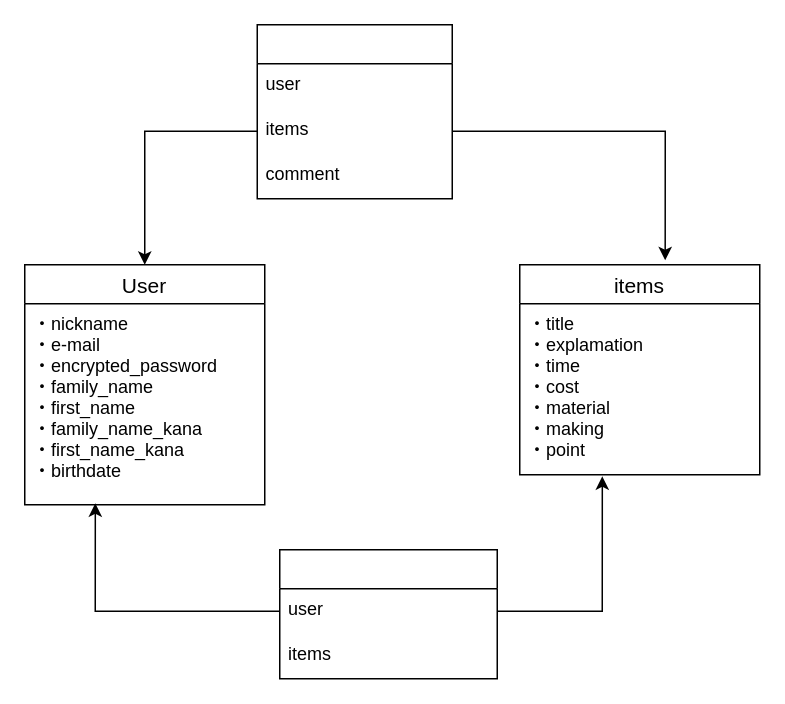
This 785x704 diagram has some shape labels left out. Here are the shapes that lost their labels. From the top down, the box of each, then its label:
(256, 23, 452, 199): comments
(278, 548, 497, 679): likes
